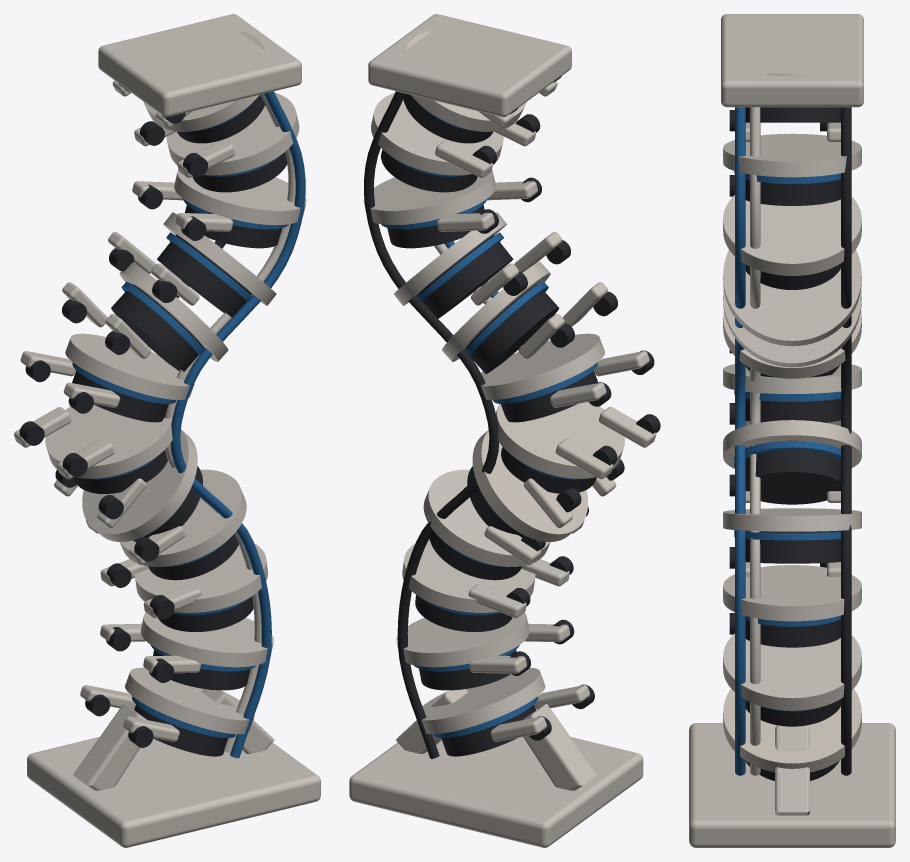
File: anatomy-17.glb
The picture shows the model from 3 angles, left to right: view 1: azimuth 30°, elevation 25°; view 2: azimuth 150°, elevation 25°; view 3: azimuth 270°, elevation 25°; orthographic projection. The views are drawn at different scales.
Parts seen in each view (by area): view 1: links, base, joints, guides, top, tendons, guide-rollers, bands; view 2: links, base, joints, guides, top, tendons, guide-rollers, bands; view 3: links, base, tendons, joints, top, bands, guides, guide-rollers.
Part boxes in pixels (left/top/right/bottom): links: left=45, top=31, right=306, bottom=734; base: left=27, top=689, right=320, bottom=847; joints: left=72, top=94, right=287, bottom=756; guides: left=14, top=80, right=235, bottom=741; top: left=98, top=14, right=301, bottom=117; tendons: left=164, top=91, right=305, bottom=758; guide-rollers: left=19, top=83, right=208, bottom=747; bands: left=72, top=103, right=288, bottom=737; links: left=363, top=31, right=624, bottom=734; base: left=349, top=689, right=643, bottom=847; joints: left=381, top=93, right=597, bottom=756; guides: left=435, top=81, right=656, bottom=741; top: left=368, top=14, right=571, bottom=117; tendons: left=364, top=91, right=523, bottom=758; guide-rollers: left=472, top=76, right=660, bottom=740; bands: left=381, top=103, right=597, bottom=737; links: left=723, top=73, right=861, bottom=772; base: left=689, top=723, right=895, bottom=847; tendons: left=735, top=107, right=851, bottom=775; joints: left=745, top=107, right=840, bottom=780; top: left=721, top=14, right=863, bottom=107; bands: left=734, top=171, right=840, bottom=711; guides: left=745, top=122, right=840, bottom=576; guide-rollers: left=729, top=110, right=827, bottom=634.
Size of the model in its own units: 0.9806 by 2.66 by 0.65.
